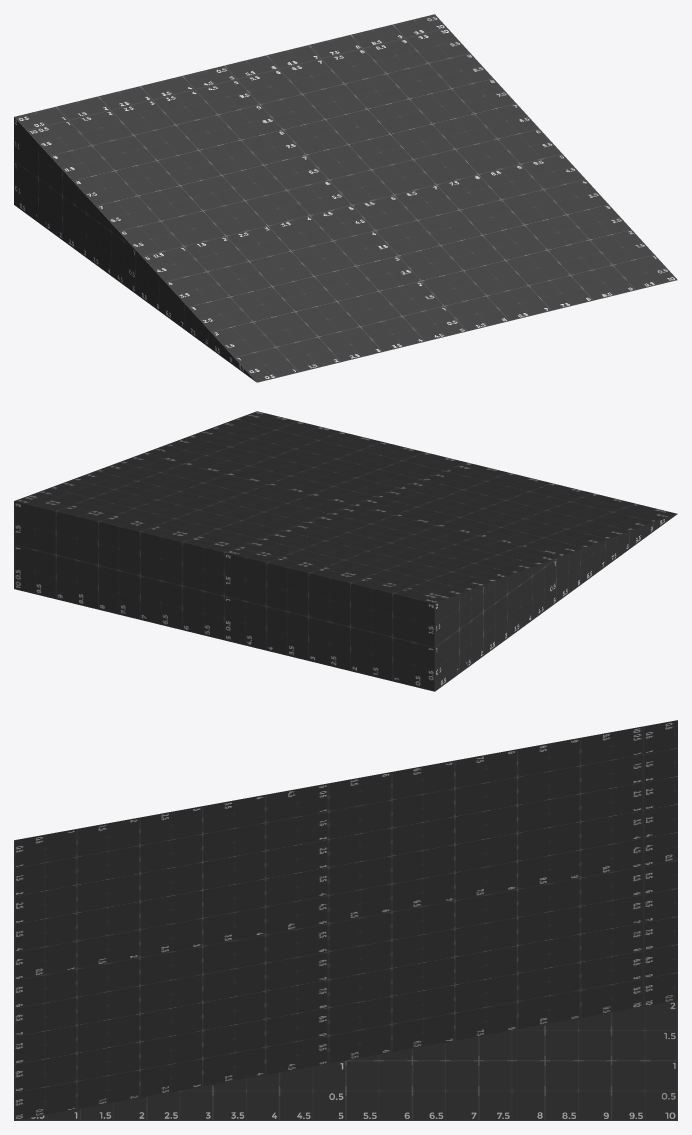
File: WedgeFloor_02.fbx
3 views of the same model, one above another, from view 1: azimuth 30°, elevation 25°; view 2: azimuth 150°, elevation 25°; view 3: azimuth 270°, elevation 25° (orthographic). The views are drawn at different scales.
Visible parts, largest first — view 1: WedgeFloor_02; view 2: WedgeFloor_02; view 3: WedgeFloor_02.
Boxes of the visible parts, x1,y1,x2,y2 form: WedgeFloor_02: (14, 14, 677, 382); WedgeFloor_02: (14, 411, 677, 691); WedgeFloor_02: (14, 720, 677, 1120).
Size of the model in its own units: 10 by 2 by 10.
